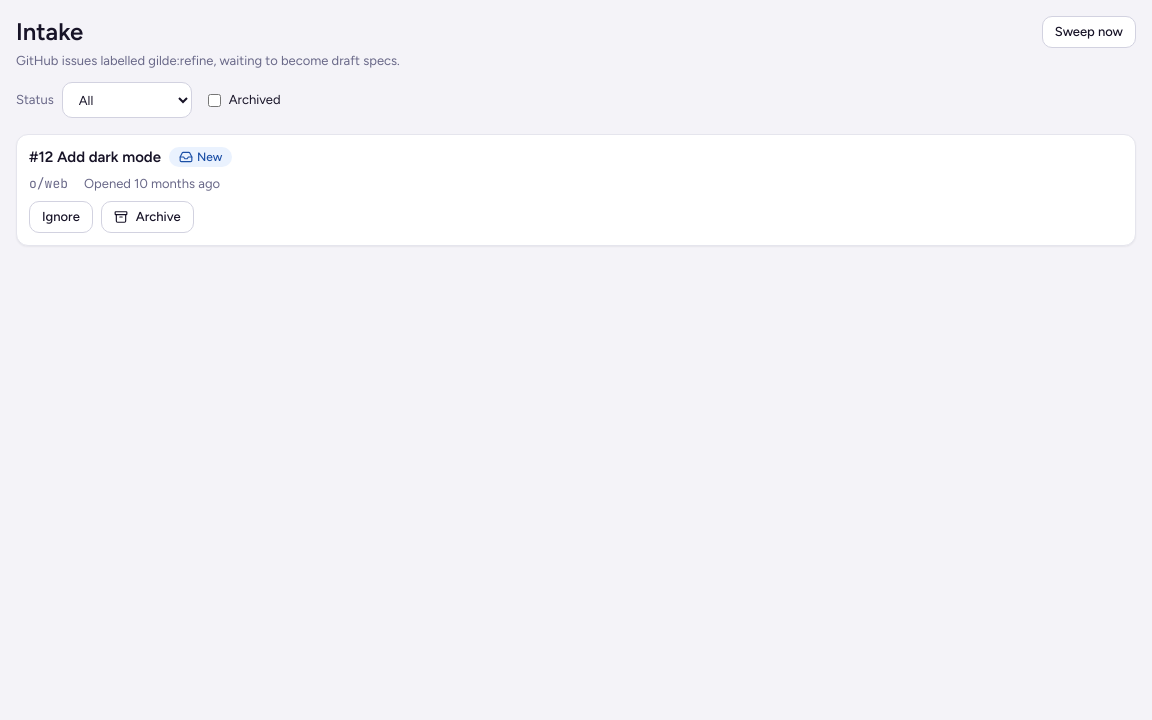
it: IntakeView › explains a refused archive in the dialog
Click the button "Archive". click: (147, 217)
box: [101,201,194,233]
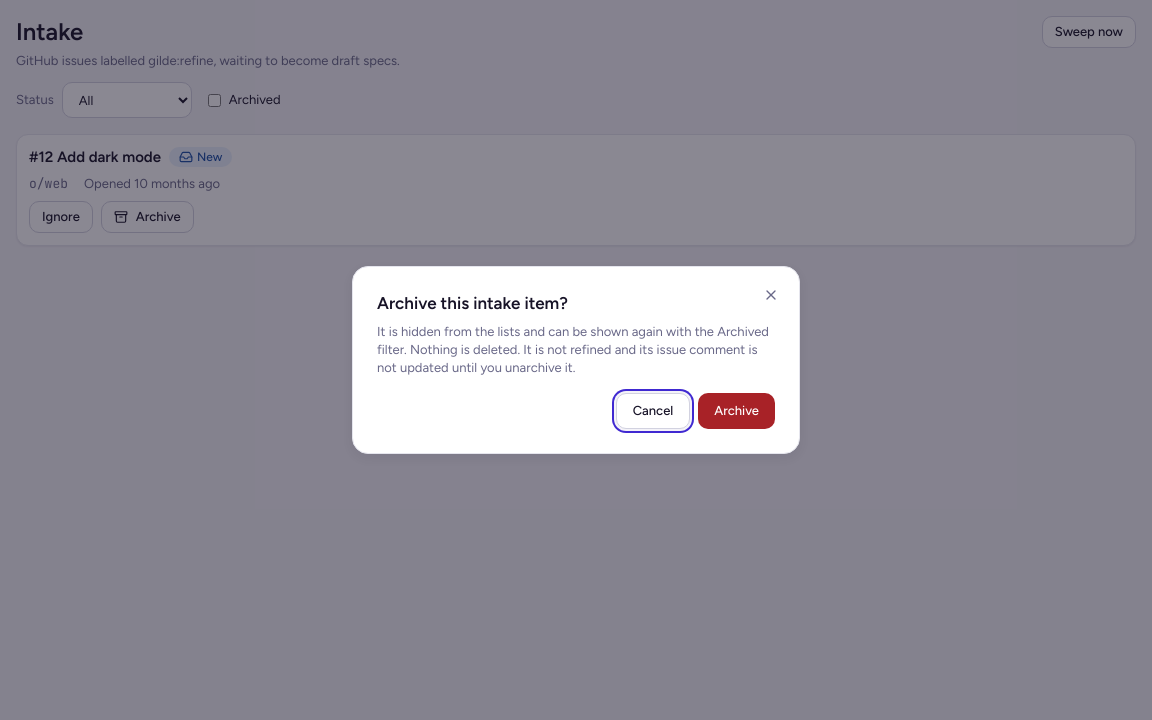
Click the button "Archive". click: (737, 411)
box: [698,393,775,429]
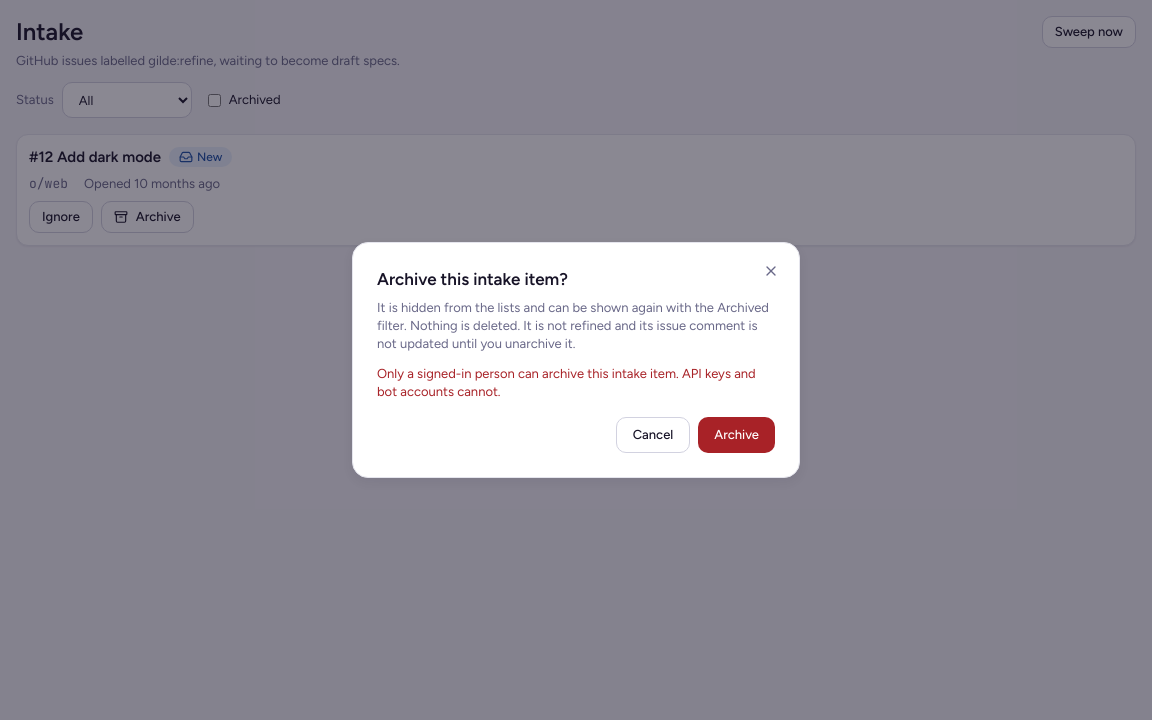
Expected: the message shows "Only a signed-in person can archive this intake item", [377,366,756,399]
